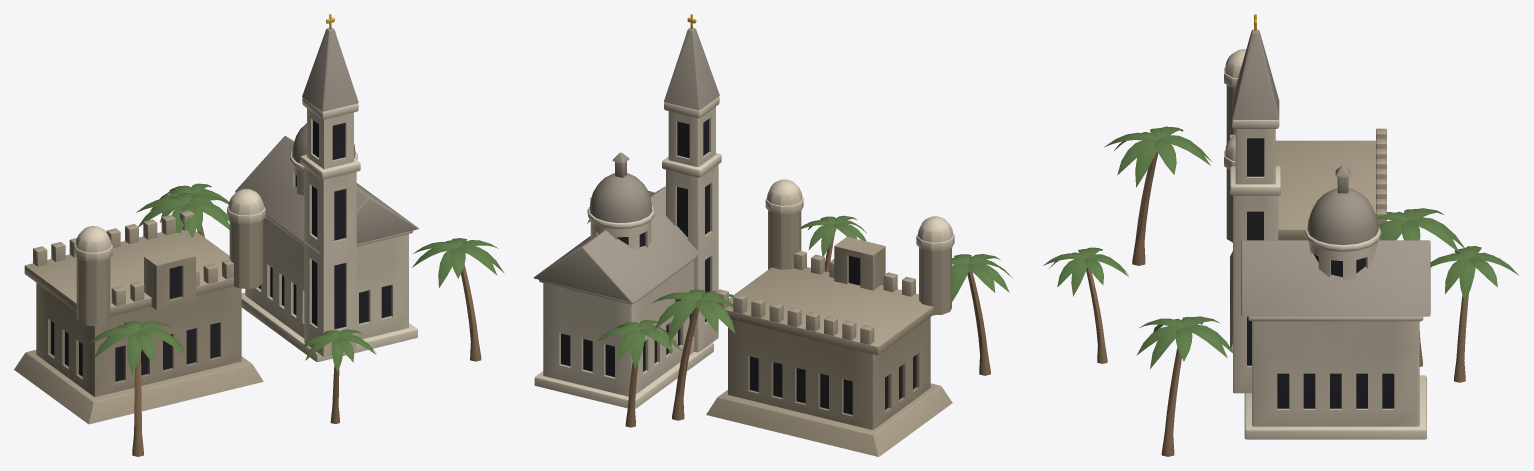
The model's file is landmark_manila_solo.glb.
3 renders of one model, left to right at view 1: azimuth 30°, elevation 25°; view 2: azimuth 150°, elevation 25°; view 3: azimuth 270°, elevation 25°, orthographic. The views are drawn at different scales.
Parts seen in each view (by area): view 1: Fort_Coral, Cathedral_Stone, Palms, Cathedral_Roofs; view 2: Fort_Coral, Cathedral_Stone, Cathedral_Roofs, Palms; view 3: Cathedral_Stone, Cathedral_Roofs, Palms, Fort_Coral.
Part boxes in pixels (x1,y1,x2,y2): Fort_Coral: (14, 188, 265, 424); Cathedral_Stone: (241, 98, 417, 361); Palms: (89, 183, 504, 456); Cathedral_Roofs: (235, 14, 418, 253); Fort_Coral: (706, 179, 954, 456); Cathedral_Stone: (534, 97, 721, 408); Cathedral_Roofs: (533, 14, 719, 302); Palms: (587, 191, 1012, 427); Cathedral_Stone: (1230, 119, 1426, 439); Cathedral_Roofs: (1232, 14, 1430, 316); Palms: (1043, 126, 1518, 456); Fort_Coral: (1224, 49, 1386, 351).
Size of the model in its own units: 1.47 by 1.16 by 1.31.
